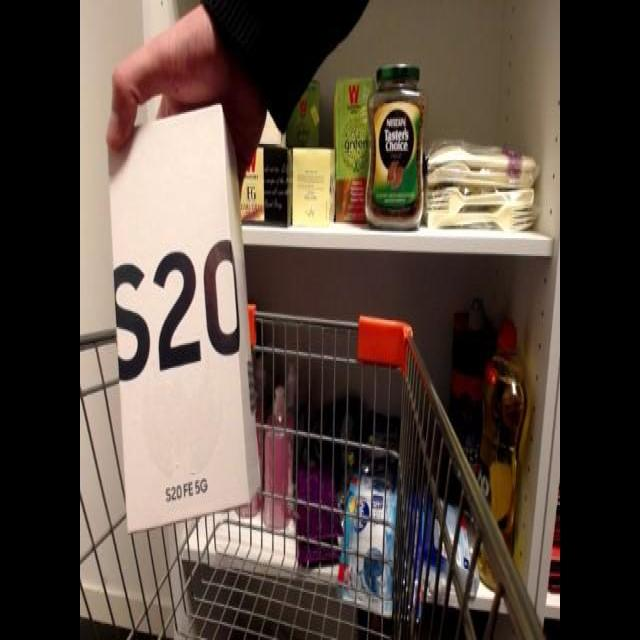Samsung S20: (101, 95, 254, 540)
